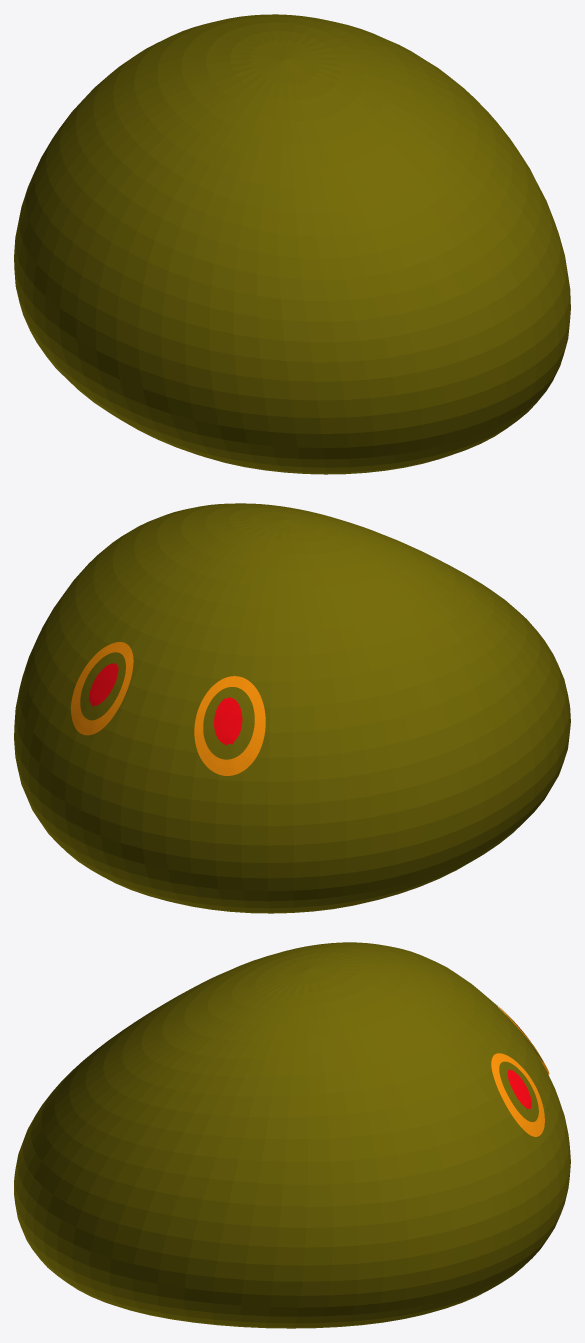
File: ElectroSLime.fbx
3 views of the same model, one above another, from view 1: azimuth 30°, elevation 25°; view 2: azimuth 150°, elevation 25°; view 3: azimuth 270°, elevation 25° (orthographic). The views are drawn at different scales.
Parts seen in each view (by area): view 1: Sphere; view 2: Sphere; view 3: Sphere.
Part boxes in pixels (<box>): Sphere: <box>14,14,570,474</box>; Sphere: <box>14,503,570,913</box>; Sphere: <box>14,942,570,1328</box>.
Bounding box in the file's own units: 180 × 120 × 204.
